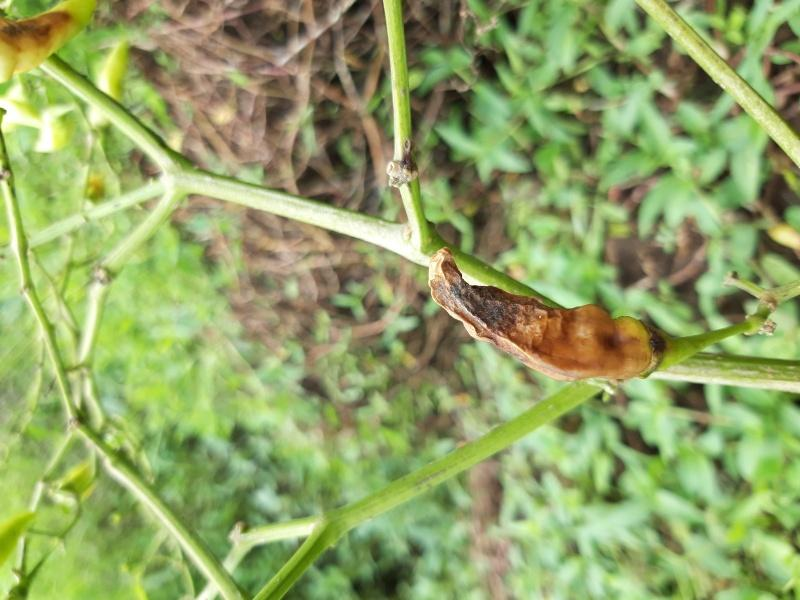antraknosa: (431, 248, 651, 379), (3, 0, 96, 88)
